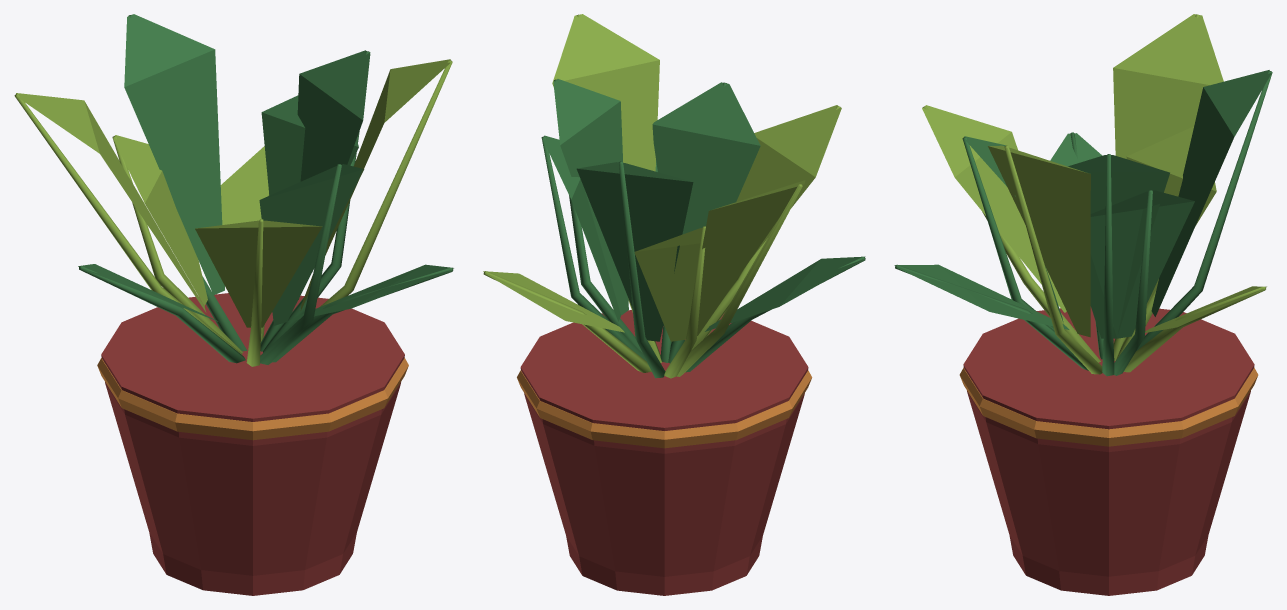
File: plant.glb
3 renders of one model, left to right at view 1: azimuth 30°, elevation 25°; view 2: azimuth 150°, elevation 25°; view 3: azimuth 270°, elevation 25°, orthographic. The views are drawn at different scales.
Parts seen in each view (by area): view 1: plant · Terracotta planter, plant · Broad cave foliage, plant · Young foliage, plant · Hammered gold; view 2: plant · Terracotta planter, plant · Broad cave foliage, plant · Young foliage, plant · Hammered gold; view 3: plant · Terracotta planter, plant · Young foliage, plant · Broad cave foliage, plant · Hammered gold.
Boxes of the visible parts, bbox=[...] form: plant · Terracotta planter: bbox=[101, 293, 404, 595]; plant · Broad cave foliage: bbox=[78, 14, 453, 364]; plant · Young foliage: bbox=[14, 59, 452, 366]; plant · Hammered gold: bbox=[97, 358, 408, 440]; plant · Terracotta planter: bbox=[520, 310, 808, 595]; plant · Broad cave foliage: bbox=[541, 79, 865, 378]; plant · Young foliage: bbox=[483, 14, 841, 378]; plant · Hammered gold: bbox=[517, 370, 812, 448]; plant · Terracotta planter: bbox=[963, 306, 1254, 595]; plant · Young foliage: bbox=[922, 14, 1266, 374]; plant · Broad cave foliage: bbox=[894, 70, 1272, 376]; plant · Hammered gold: bbox=[959, 367, 1258, 446].
Size of the model in its own units: 0.9797 by 1.37 by 0.9874.
